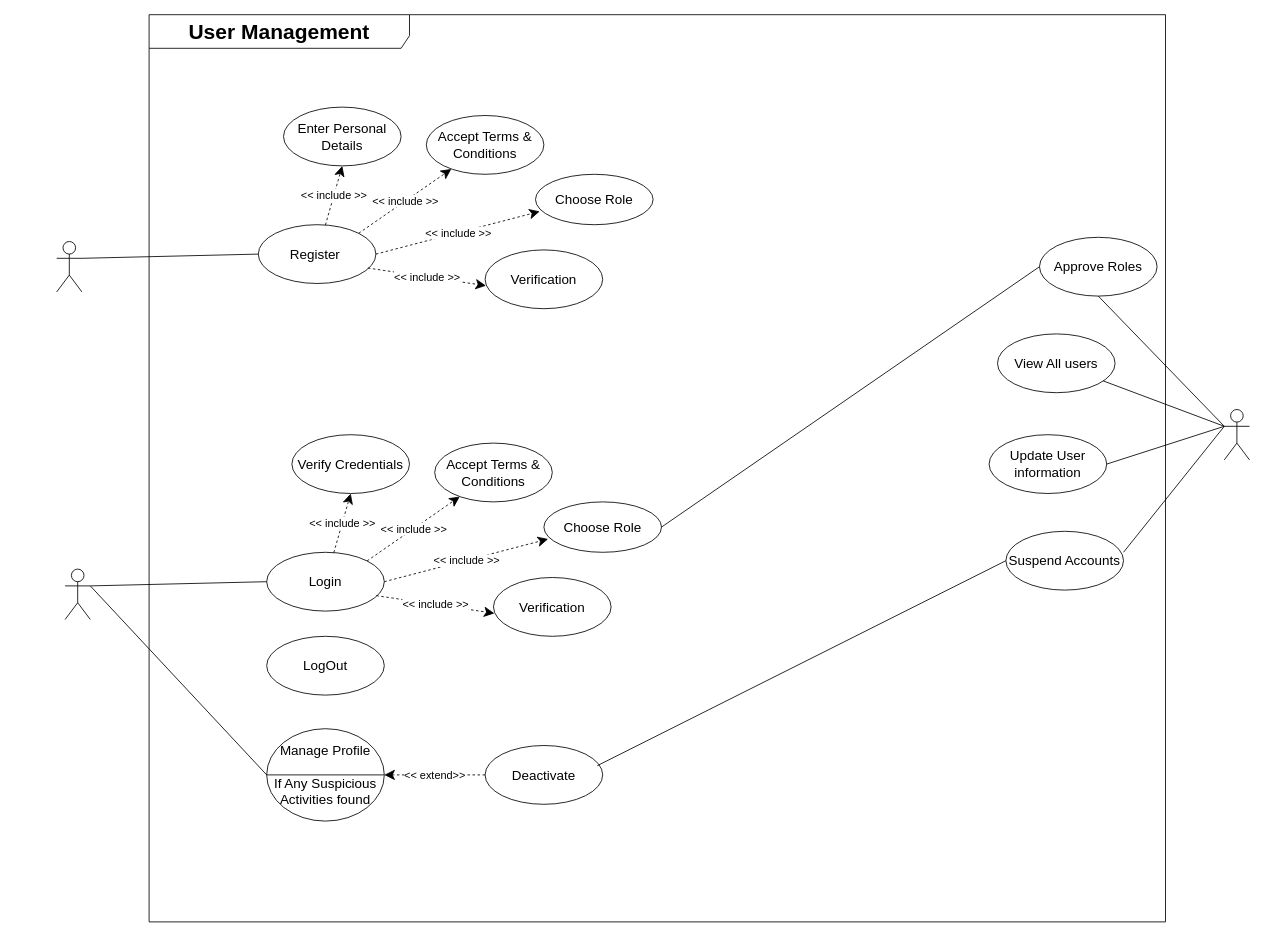
Image size: 1270x937. Some labels were removed from this diagram. The centre of each missing label's shape, as x and y in pixels:
"Admin" goes at (1236,434).
"Registered User" goes at (77,594).
"Unregistered User" goes at (69,266).
